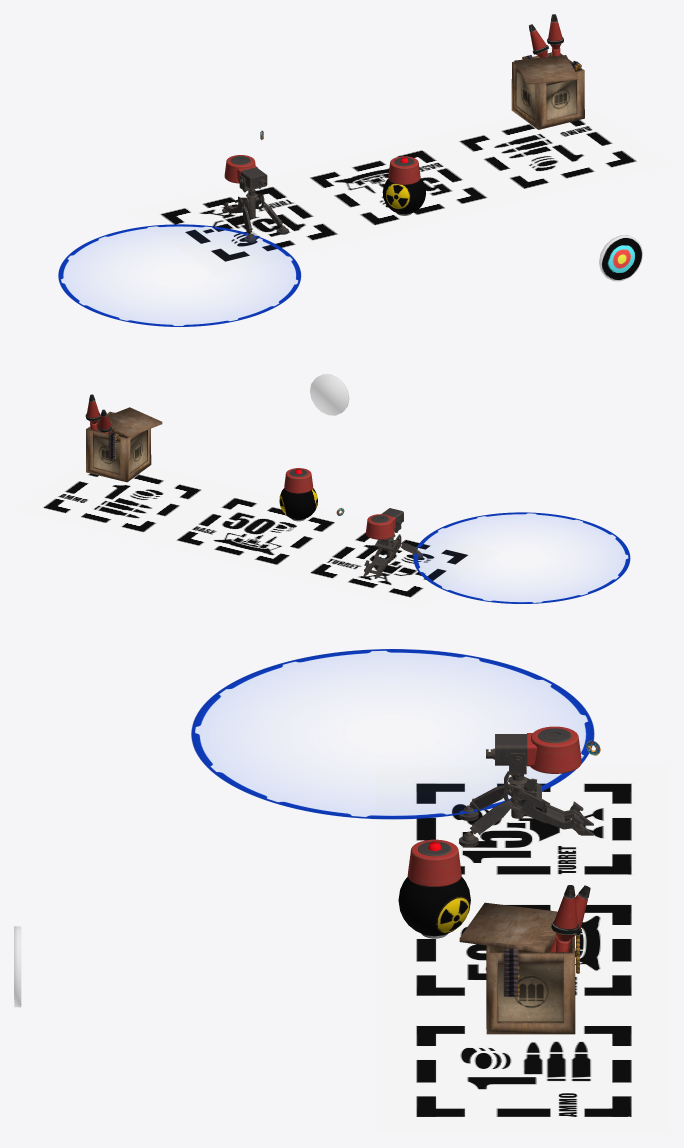
The model's file is environment.glb.
3 views of the same model, one above another, from view 1: azimuth 30°, elevation 25°; view 2: azimuth 150°, elevation 25°; view 3: azimuth 270°, elevation 25° (orthographic). The views are drawn at different scales.
Parts seen in each view (by area): view 1: 5CoinFloor, 15CoinFloor, 50CoinFloor, Ammo, Shield, targetObject, MinionSphere, Legs, Head, MinionTop; view 2: 50CoinFloor, 5CoinFloor, 15CoinFloor, Ammo, Shield, targetObject, Legs, MinionSphere, Head, MinionTop; view 3: 5CoinFloor, 15CoinFloor, 50CoinFloor, Ammo, Shield, Legs, MinionSphere, Head, MinionTop.
Part boxes in pixels (x1,y1,x2,y2): 5CoinFloor: [427, 103, 669, 202]; 15CoinFloor: [128, 174, 365, 275]; 50CoinFloor: [277, 138, 514, 239]; Ammo: [511, 14, 584, 129]; Shield: [58, 224, 301, 326]; targetObject: [598, 235, 642, 281]; MinionSphere: [382, 179, 425, 214]; Legs: [222, 193, 288, 242]; Head: [224, 155, 267, 189]; MinionTop: [388, 156, 420, 184]; 50CoinFloor: [152, 486, 364, 576]; 5CoinFloor: [14, 458, 230, 544]; 15CoinFloor: [286, 519, 497, 609]; Ammo: [85, 394, 162, 482]; Shield: [413, 512, 630, 603]; targetObject: [310, 374, 349, 415]; Legs: [363, 534, 423, 578]; MinionSphere: [279, 488, 317, 519]; Head: [365, 508, 403, 539]; MinionTop: [284, 468, 313, 493]; 5CoinFloor: [376, 1008, 669, 1133]; 15CoinFloor: [376, 766, 669, 887]; 50CoinFloor: [376, 887, 669, 1008]; Ammo: [459, 885, 590, 1034]; Shield: [191, 649, 594, 819]; Legs: [458, 771, 593, 847]; MinionSphere: [398, 876, 470, 936]; Head: [486, 726, 581, 773]; MinionTop: [407, 839, 461, 886].
Size of the model in its own units: 8.04 by 1.58 by 4.66.
11 materials, 10 textured.
